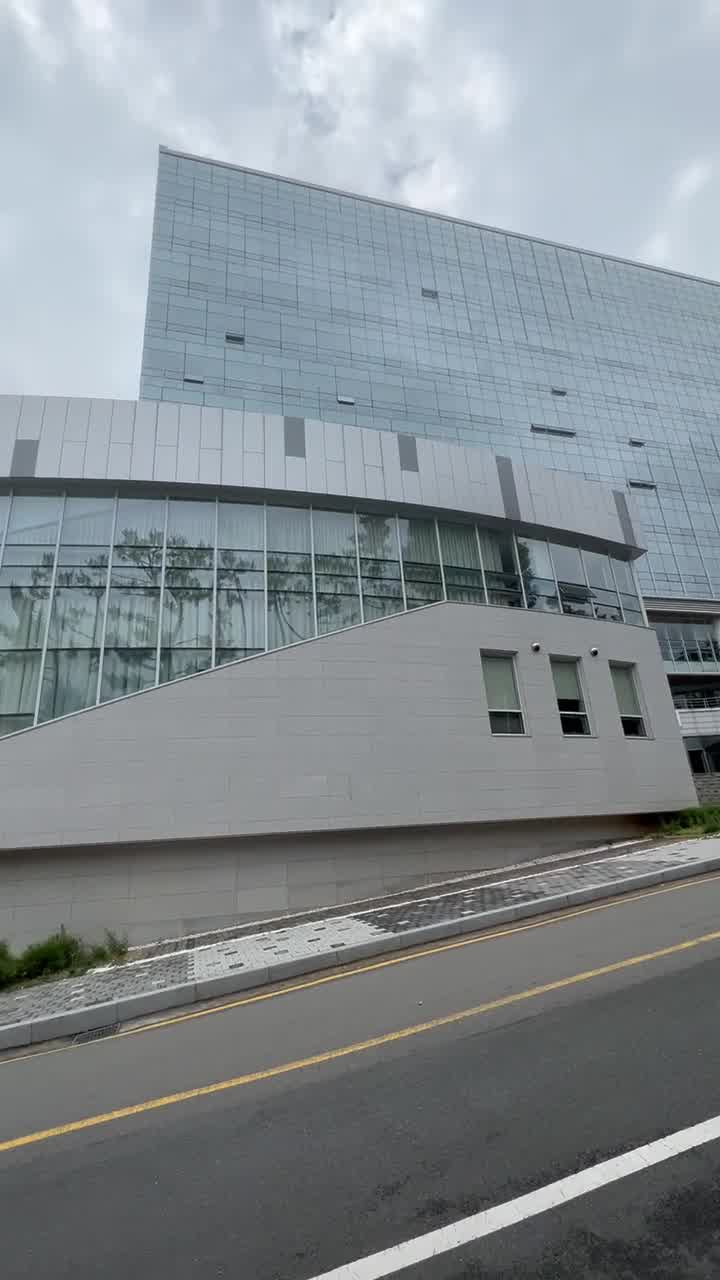medium: (136, 162, 720, 814)
